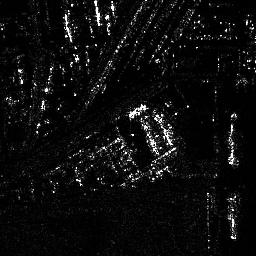ship: (227, 111, 241, 167), (227, 193, 239, 241)
